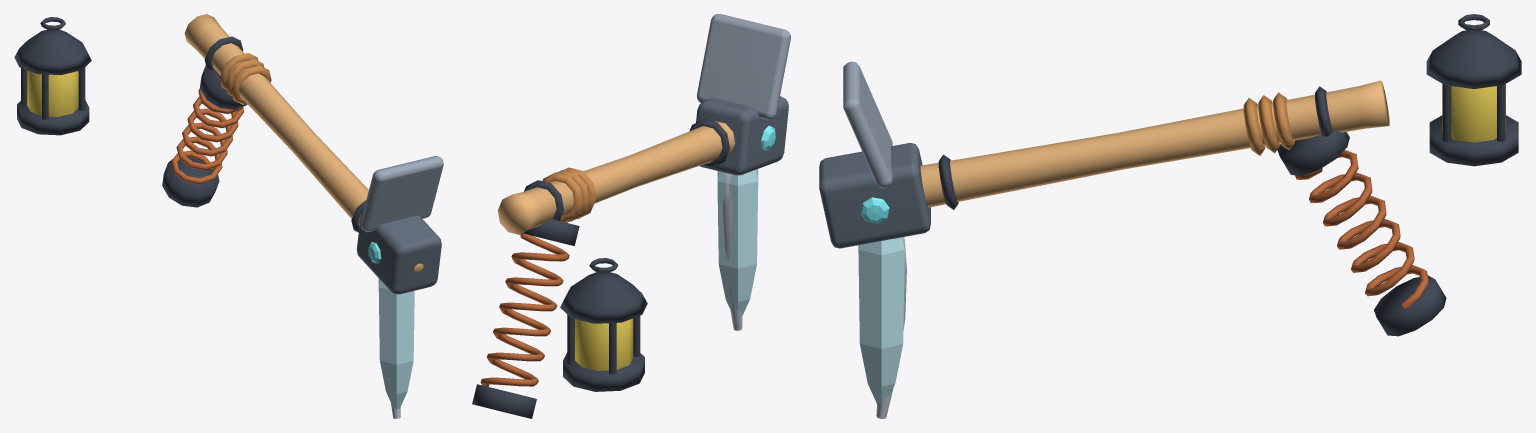
The model's file is IcePickPost_T1_Upgrades.fbx.
3 renders of one model, left to right at view 1: azimuth 30°, elevation 25°; view 2: azimuth 150°, elevation 25°; view 3: azimuth 270°, elevation 25°, orthographic. The views are drawn at different scales.
Visible parts, largest first — view 1: IcePickPostT1U1PickA, IcePickPostT1U3Spring1, IcePickPostT1U2Lamp1, IcePickPostT1U5PickA, IcePickPostT1U2Lamp1Glow; view 2: IcePickPostT1U1PickA, IcePickPostT1U3Spring1, IcePickPostT1U2Lamp1, IcePickPostT1U5PickA, IcePickPostT1U2Lamp1Glow; view 3: IcePickPostT1U1PickA, IcePickPostT1U3Spring1, IcePickPostT1U2Lamp1, IcePickPostT1U5PickA, IcePickPostT1U2Lamp1Glow.
Part boxes in pixels (x1,y1,x2,y2): IcePickPostT1U1PickA: (184,14,443,418); IcePickPostT1U3Spring1: (162,65,247,207); IcePickPostT1U2Lamp1: (14,17,91,135); IcePickPostT1U5PickA: (378,278,414,409); IcePickPostT1U2Lamp1Glow: (27,70,78,116); IcePickPostT1U1PickA: (498,14,790,330); IcePickPostT1U3Spring1: (472,219,579,418); IcePickPostT1U2Lamp1: (560,258,647,391); IcePickPostT1U5PickA: (717,169,758,316); IcePickPostT1U2Lamp1Glow: (575,318,633,370); IcePickPostT1U1PickA: (819,61,1389,418); IcePickPostT1U3Spring1: (1277,131,1446,336); IcePickPostT1U2Lamp1: (1426,14,1521,166); IcePickPostT1U5PickA: (858,237,904,405); IcePickPostT1U2Lamp1Glow: (1442,84,1505,142).
Size of the model in its own units: 41.21 by 57.28 by 108.
